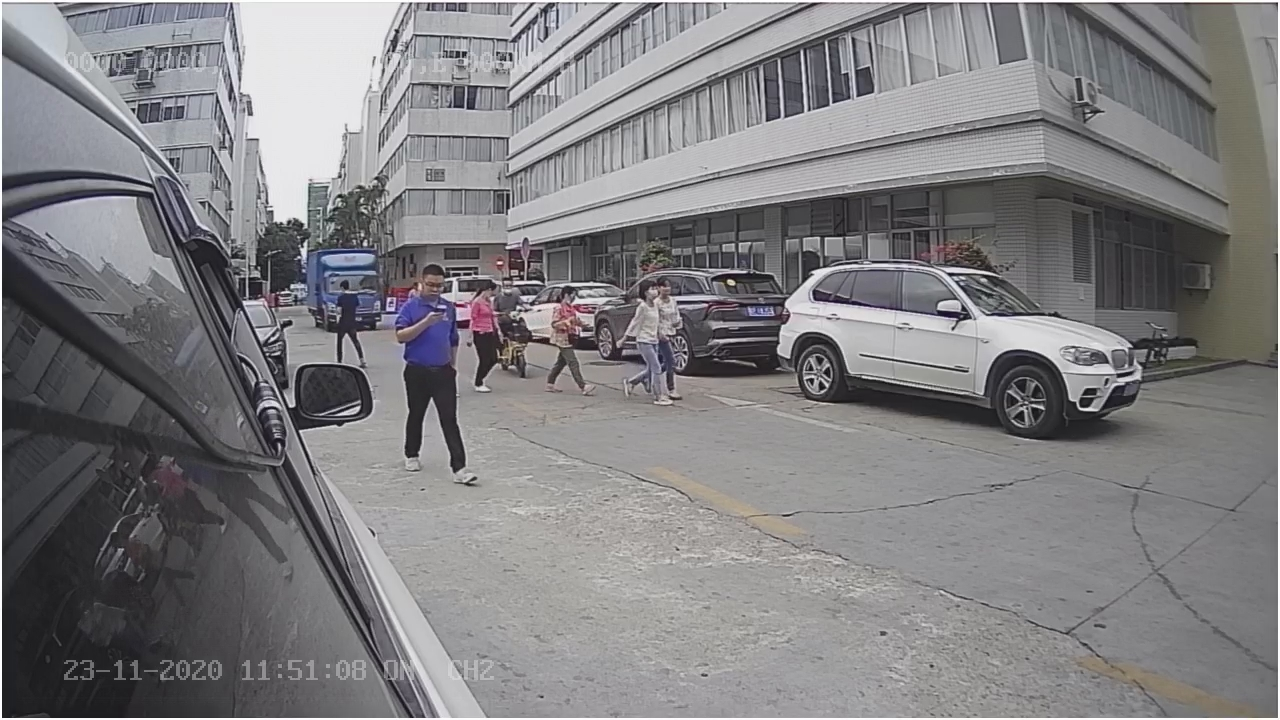person: (392, 257, 477, 487), (542, 279, 596, 395)
